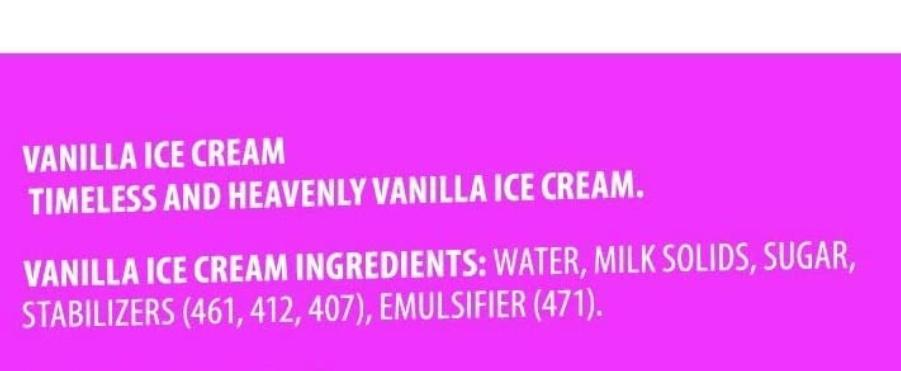ingredients: (16, 120, 901, 355)
